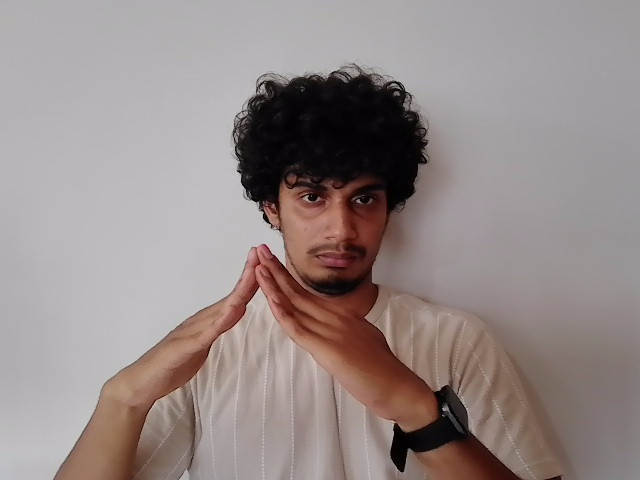home: (138, 248, 442, 410)
